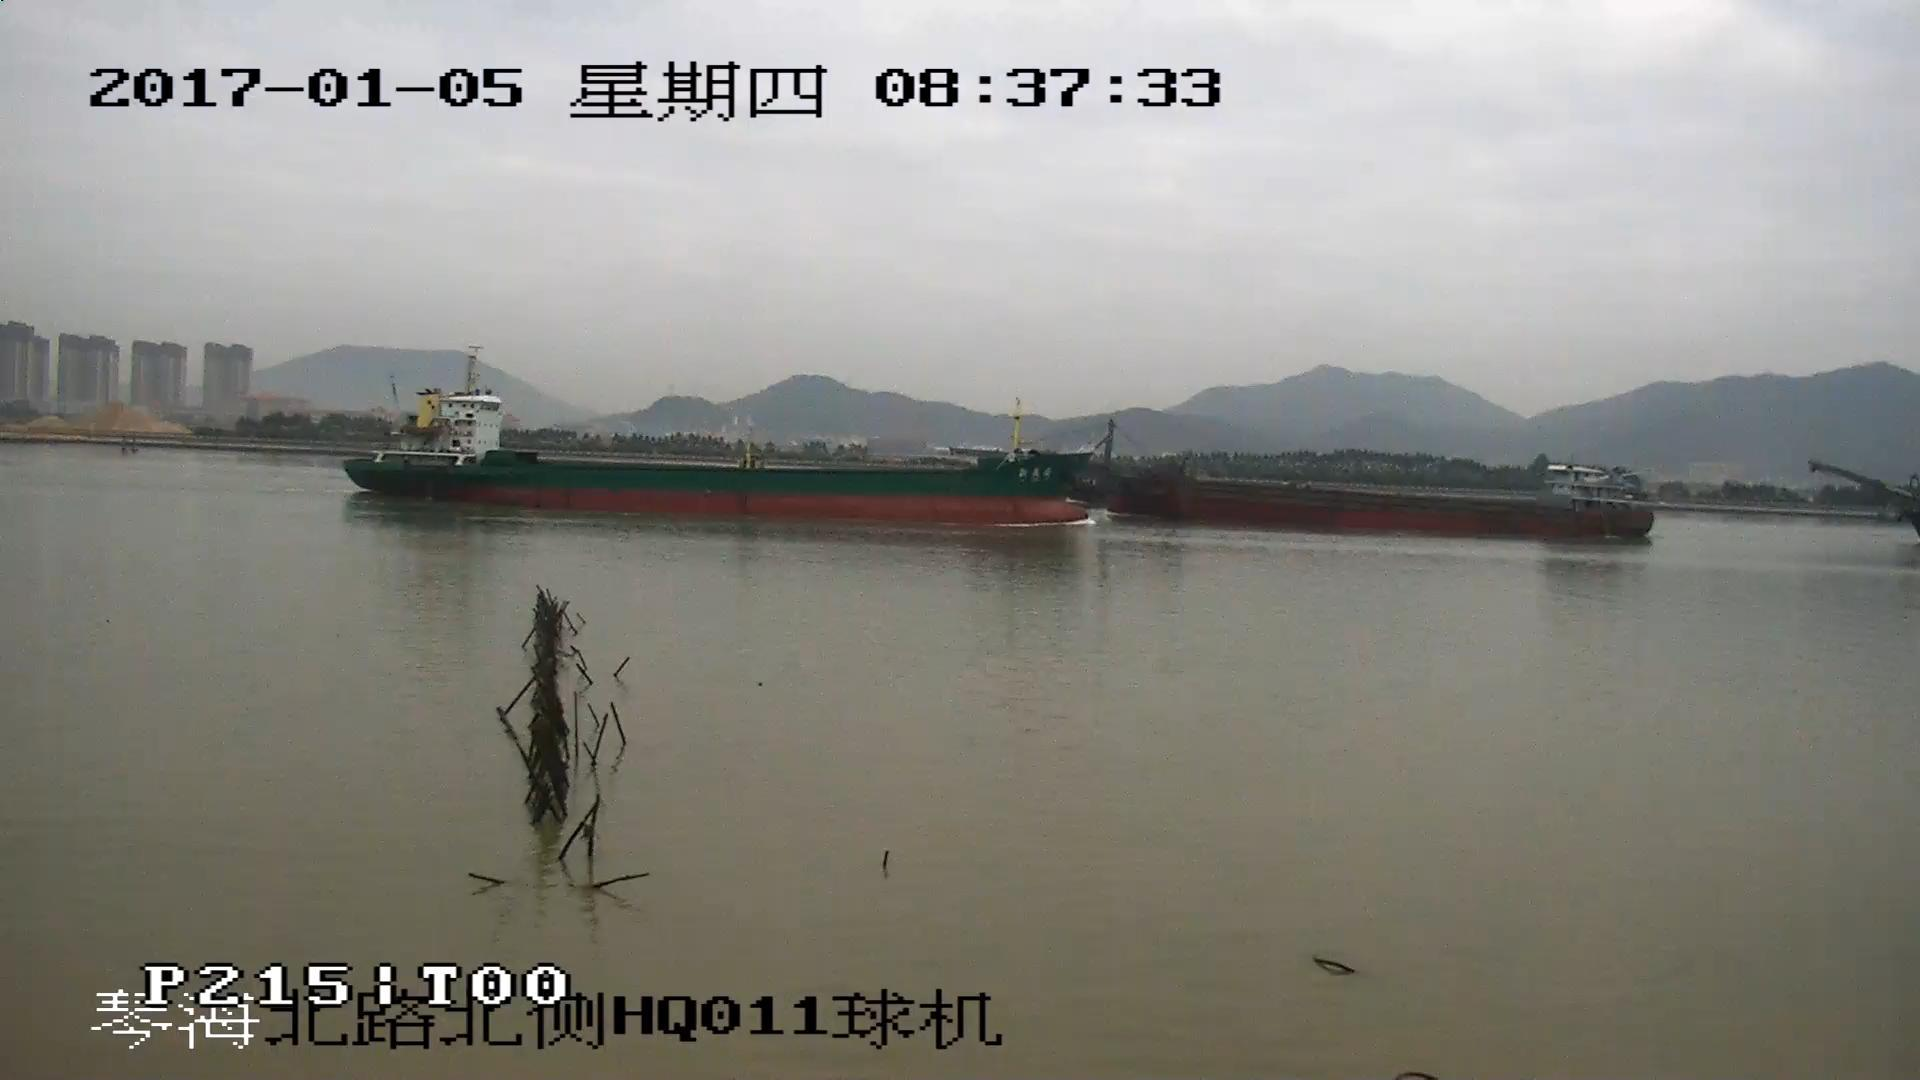Ship: (356, 352, 1098, 525), (1109, 425, 1652, 534)
